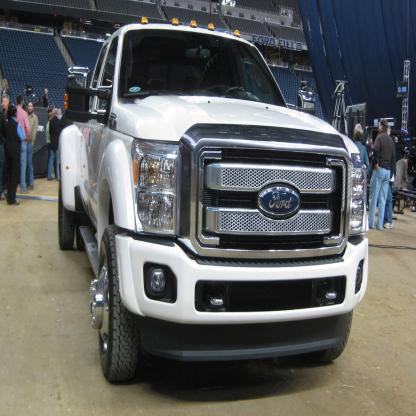Vehicle: (57, 15, 370, 383)
